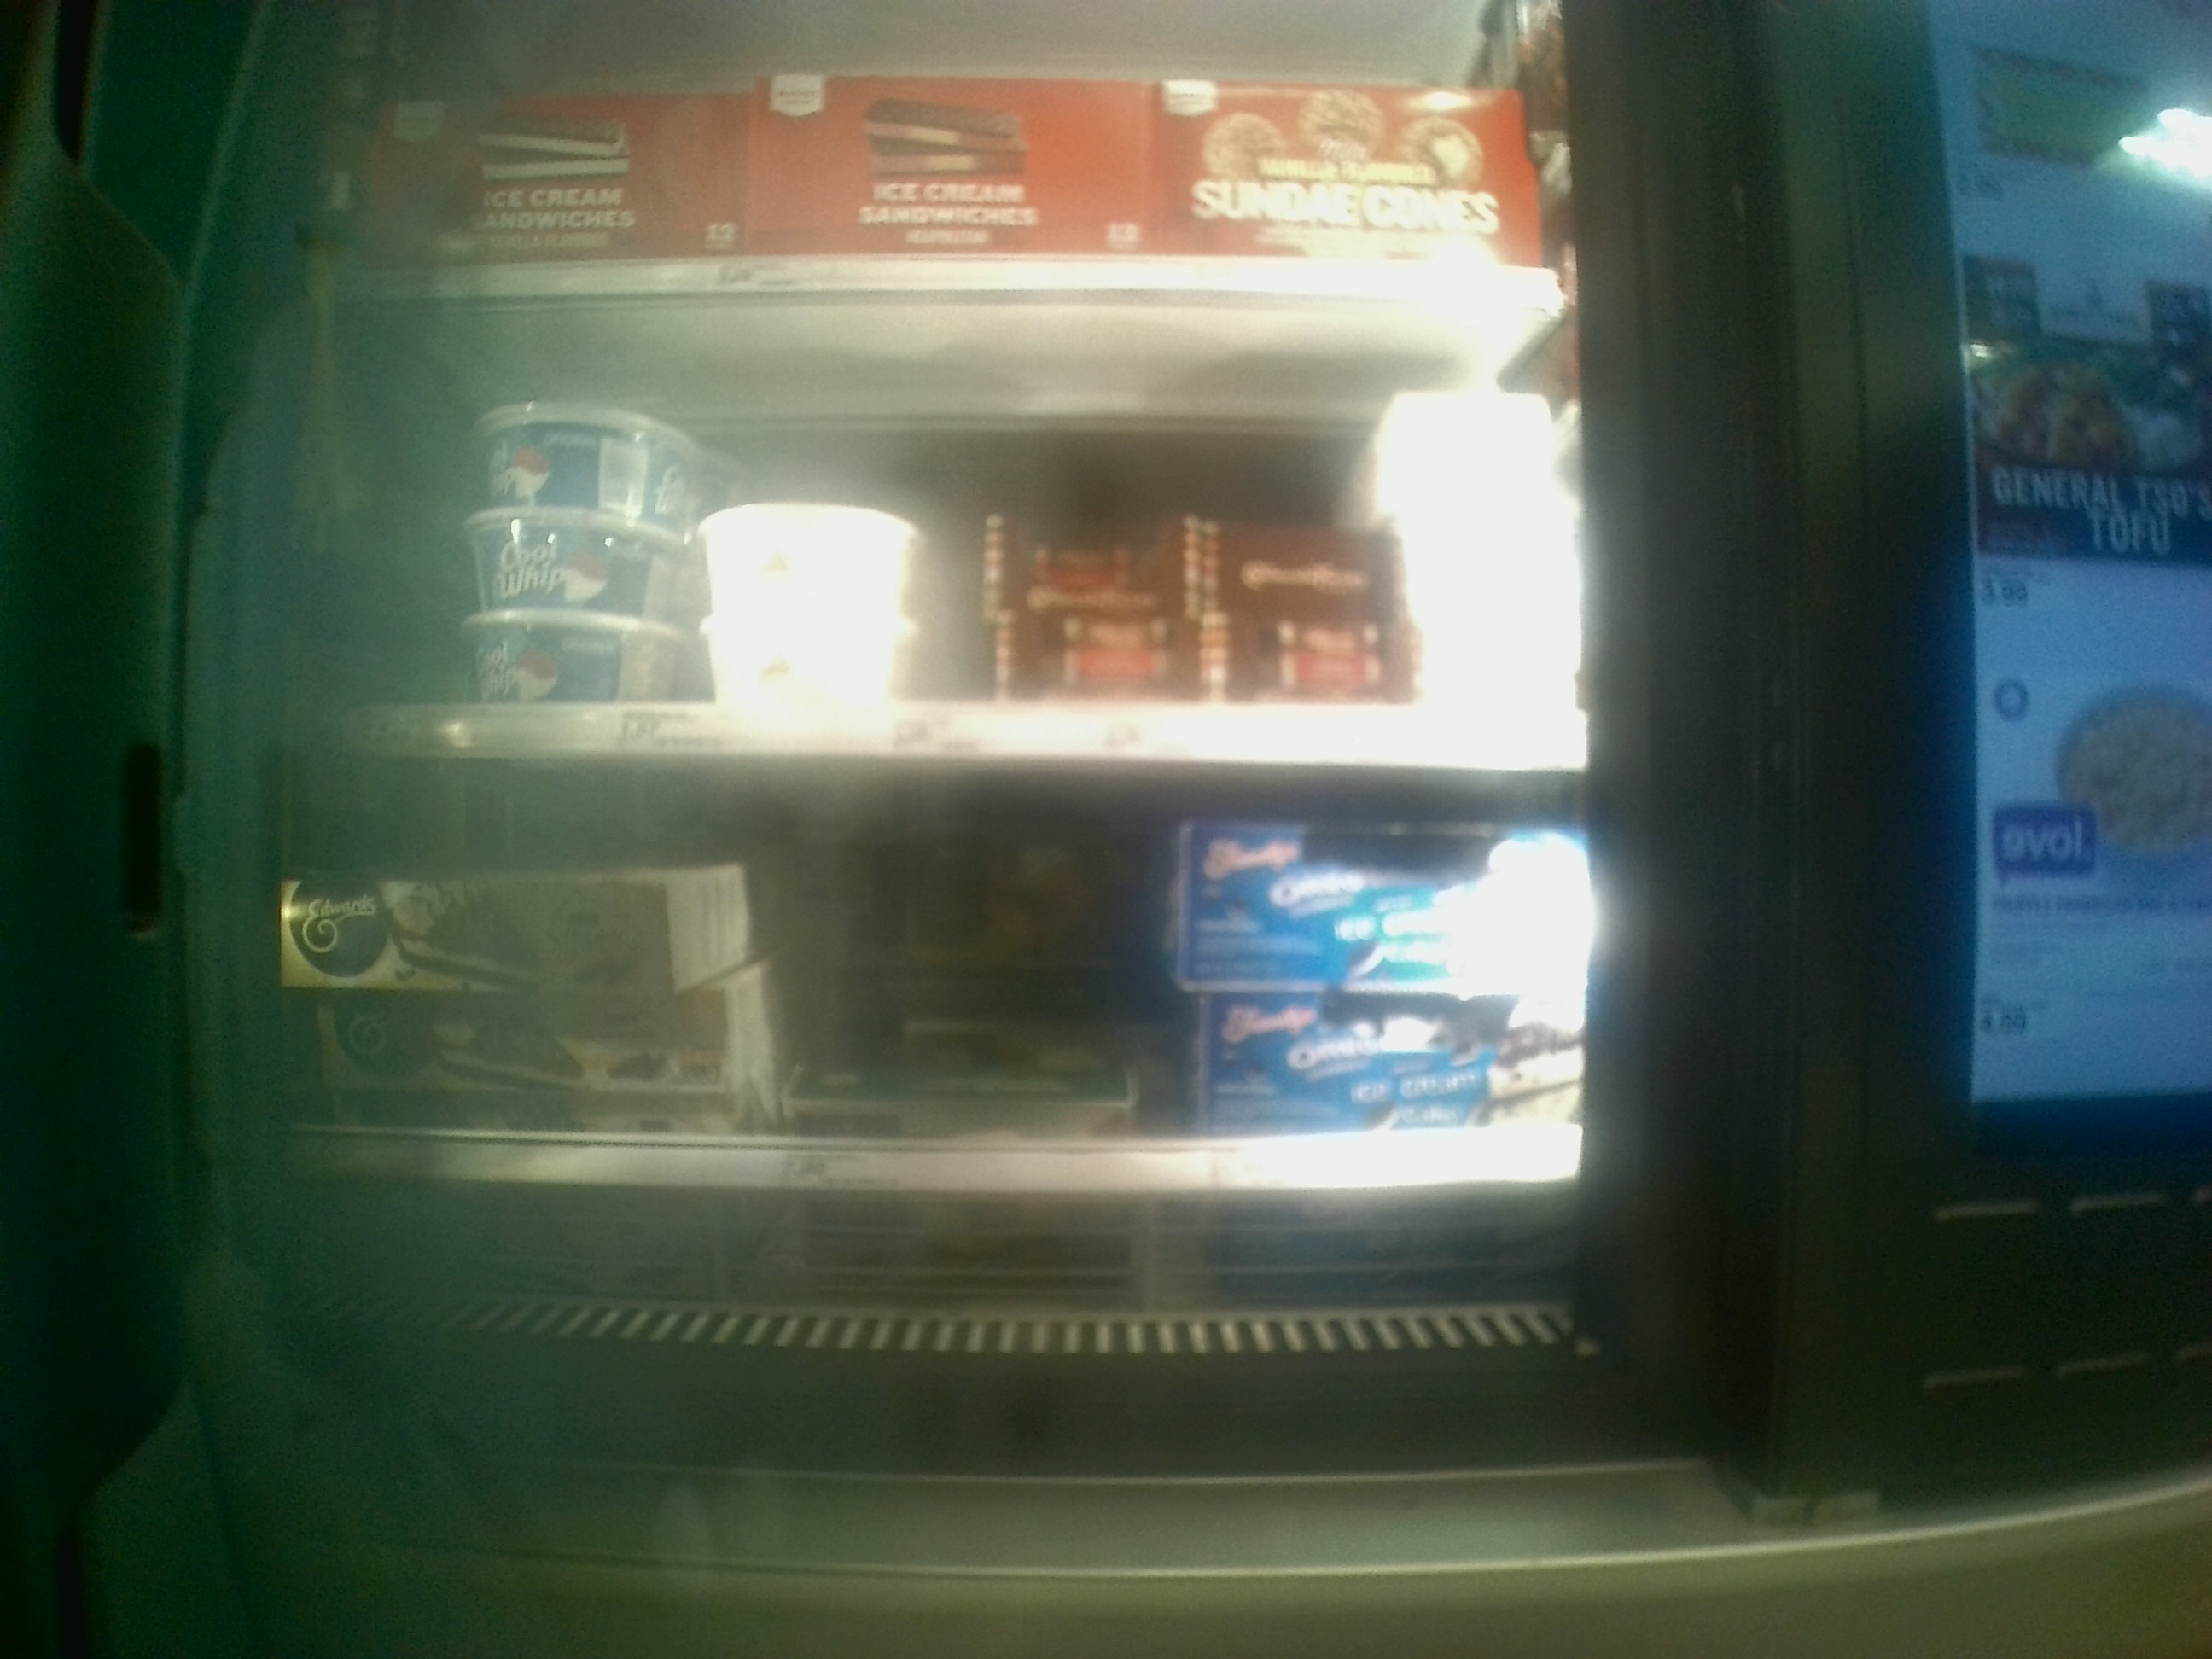shelf: (249, 762, 1609, 1284), (348, 296, 1606, 767)
